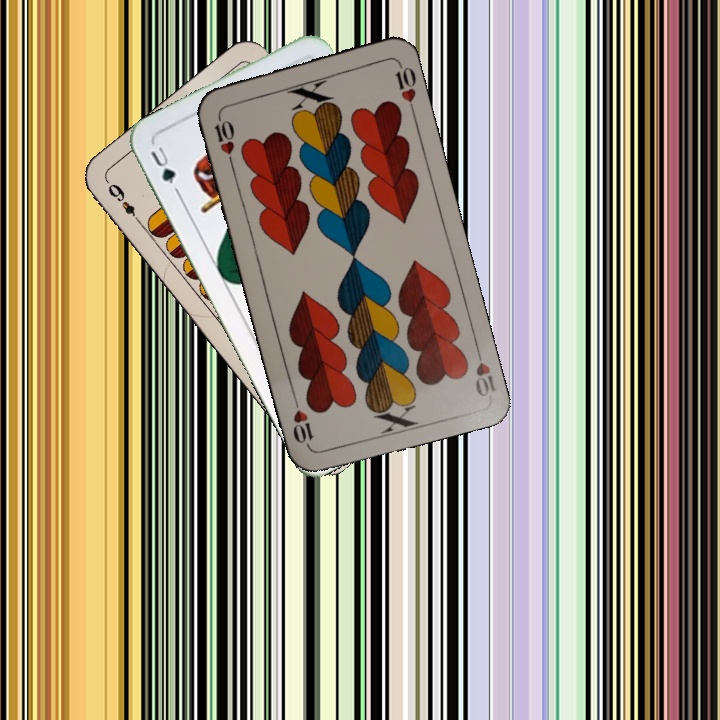E9: (103, 179, 144, 228)
GU: (146, 142, 178, 187)
H10: (210, 109, 237, 168), (471, 341, 498, 400)
